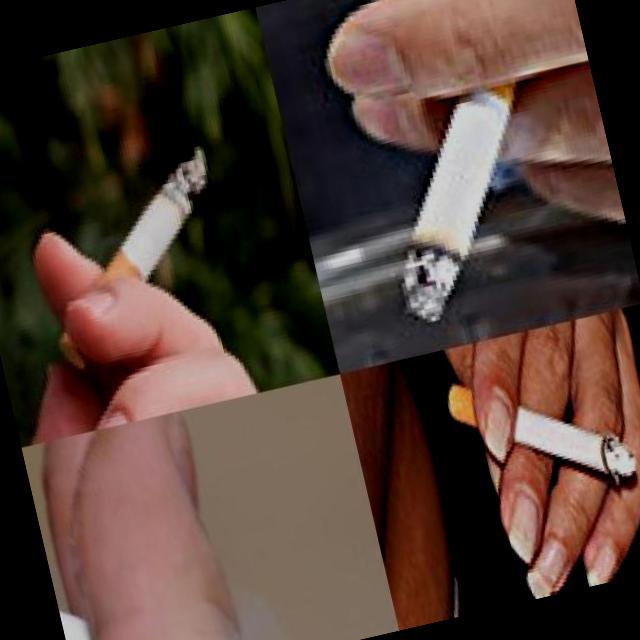smoke: (349, 39, 578, 331), (41, 454, 399, 640), (441, 345, 640, 514), (94, 134, 233, 276)
